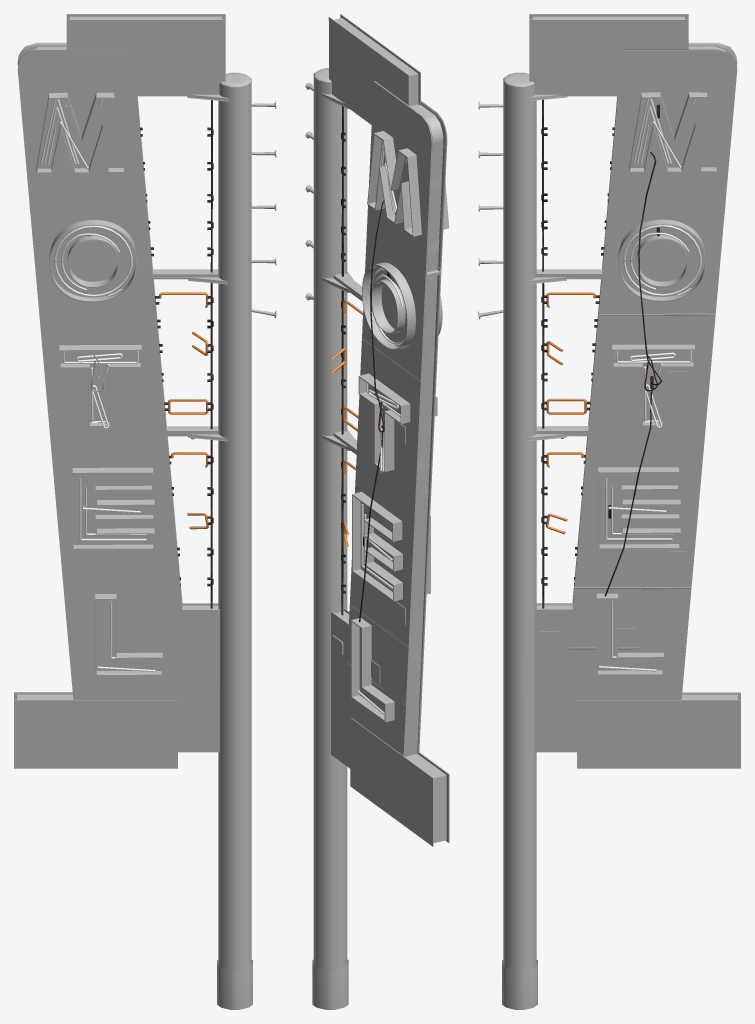
The model's file is MotelSign.fbx.
3 views of the same model, side by side, from view 1: azimuth 90°, elevation 25°; view 2: azimuth 210°, elevation 25°; view 3: azimuth 270°, elevation 25° (orthographic).
Visible parts, largest first — view 1: MotelSign1, MotelSign5, MotelSign2, MotelSign3; view 2: MotelSign1, MotelSign2, MotelSign3; view 3: MotelSign1, MotelSign3, MotelSign2.
Part boxes in pixels (<box>): MotelSign1: <box>14,14,276,1009</box>; MotelSign5: <box>40,99,157,672</box>; MotelSign2: <box>140,100,213,608</box>; MotelSign3: <box>159,292,209,529</box>; MotelSign1: <box>305,14,449,1009</box>; MotelSign2: <box>341,106,390,622</box>; MotelSign3: <box>331,141,407,714</box>; MotelSign1: <box>478,14,740,1009</box>; MotelSign3: <box>545,98,701,671</box>; MotelSign2: <box>541,99,662,608</box>.
Size of the model in its own units: 145 by 3359 by 812.
